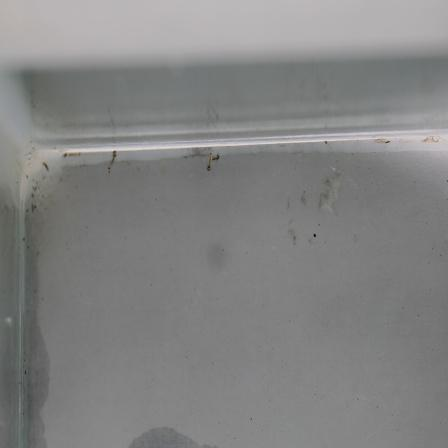Jentik-Nyamuk: (197, 139, 229, 174), (99, 146, 123, 173)
